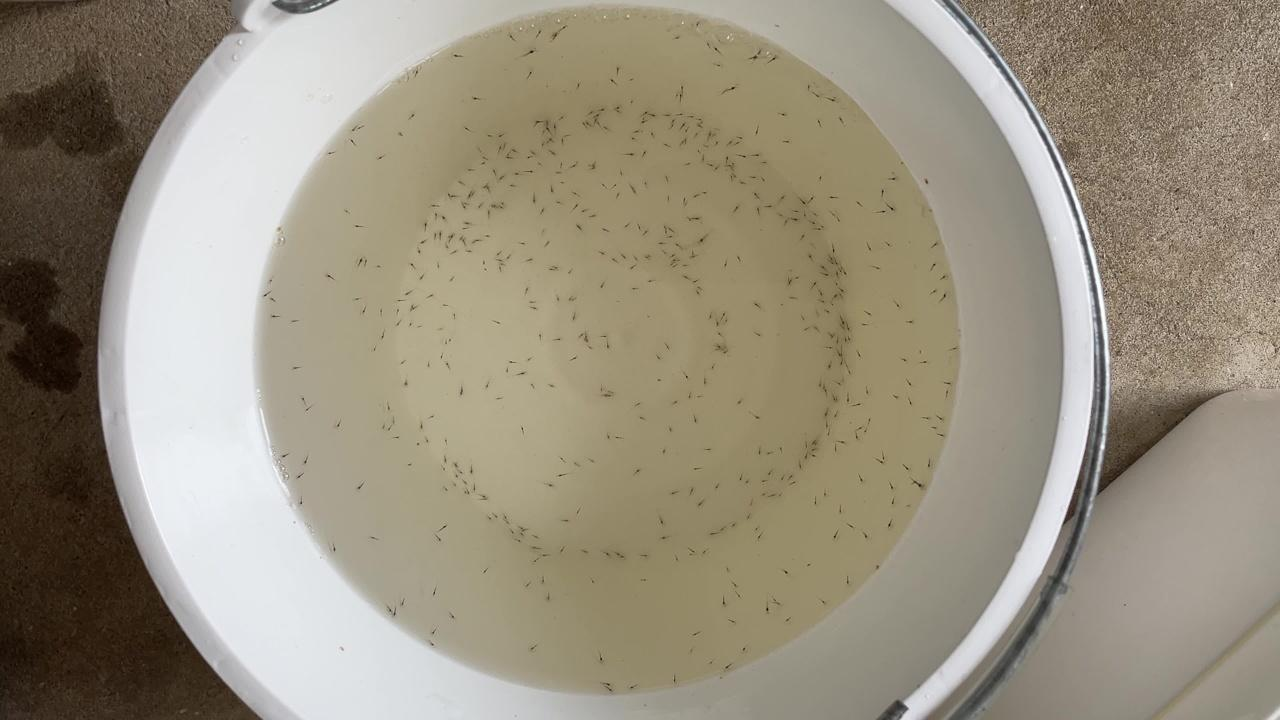shrimp: (612, 63, 624, 71), (627, 69, 639, 77), (625, 93, 637, 101), (609, 76, 621, 84), (614, 99, 626, 107), (614, 105, 626, 113), (599, 102, 611, 110), (585, 106, 597, 114), (590, 108, 602, 116), (591, 114, 603, 122), (593, 118, 605, 126), (602, 121, 614, 129), (584, 116, 596, 124), (578, 118, 590, 126), (573, 83, 585, 91), (555, 109, 567, 117), (561, 128, 573, 136), (558, 135, 570, 143), (552, 121, 564, 129), (545, 116, 557, 124), (536, 116, 548, 124), (540, 123, 552, 131), (547, 132, 559, 140), (545, 135, 557, 143), (538, 140, 550, 148), (544, 145, 556, 153), (556, 155, 568, 163), (554, 166, 566, 174), (568, 161, 580, 169), (587, 158, 599, 166), (588, 162, 600, 170), (530, 145, 542, 153), (526, 150, 538, 158), (532, 158, 544, 166), (511, 143, 523, 151), (506, 152, 518, 160), (503, 145, 515, 153), (495, 142, 507, 150), (497, 126, 509, 134), (485, 129, 497, 137), (472, 93, 484, 101), (459, 121, 471, 129), (473, 141, 485, 149), (480, 150, 492, 158), (478, 155, 490, 163), (489, 165, 501, 173), (494, 170, 506, 178), (507, 178, 519, 186), (512, 167, 524, 175), (522, 167, 534, 175), (529, 190, 541, 198), (540, 203, 552, 211), (546, 182, 558, 190), (555, 174, 567, 182), (682, 82, 694, 90), (676, 93, 688, 101), (672, 88, 684, 96), (651, 109, 663, 117), (642, 106, 654, 114), (641, 115, 653, 123), (634, 125, 646, 133), (645, 128, 657, 136), (628, 134, 640, 142), (626, 150, 638, 158), (638, 147, 650, 155), (662, 136, 674, 144), (667, 121, 679, 129), (667, 115, 679, 123), (674, 107, 686, 115), (686, 111, 698, 119), (680, 117, 692, 125), (681, 122, 693, 130), (681, 133, 693, 141), (676, 136, 688, 144), (689, 128, 701, 136), (696, 121, 708, 129), (696, 115, 708, 123), (712, 124, 724, 132), (702, 129, 714, 137), (711, 135, 723, 143), (705, 140, 717, 148), (692, 140, 704, 148), (699, 150, 711, 158), (684, 156, 696, 164), (703, 157, 715, 165), (710, 161, 722, 169), (751, 124, 763, 132), (737, 130, 749, 138), (733, 137, 745, 145), (724, 135, 736, 143), (735, 149, 747, 157), (751, 147, 763, 155), (758, 154, 770, 162), (759, 171, 771, 179), (747, 172, 759, 180), (737, 178, 749, 186), (727, 174, 739, 182), (732, 167, 744, 175), (731, 157, 743, 165), (721, 160, 733, 168), (781, 137, 793, 145), (778, 111, 790, 119), (816, 173, 828, 181), (749, 188, 761, 196), (733, 201, 745, 209), (752, 206, 764, 214), (764, 199, 776, 207), (778, 190, 790, 198), (793, 194, 805, 202), (810, 190, 822, 198), (809, 206, 821, 214), (807, 214, 819, 222), (818, 217, 830, 225), (813, 224, 825, 232), (799, 206, 811, 214), (793, 205, 805, 213), (791, 213, 803, 221), (781, 215, 793, 223), (775, 210, 787, 218), (829, 191, 841, 199), (826, 206, 838, 214), (835, 211, 847, 219), (835, 118, 847, 126), (813, 117, 825, 125), (830, 96, 842, 104), (814, 93, 826, 101), (804, 82, 816, 90), (768, 55, 780, 63), (749, 57, 761, 65), (758, 45, 770, 53), (729, 84, 741, 92), (712, 62, 724, 70), (715, 46, 727, 54), (703, 40, 715, 48), (672, 33, 684, 41), (697, 19, 709, 27), (564, 22, 576, 30), (550, 29, 562, 37), (526, 47, 538, 55), (526, 73, 538, 81), (534, 27, 546, 35), (507, 28, 519, 36), (455, 51, 467, 59), (416, 65, 428, 73), (406, 109, 418, 117), (398, 125, 410, 133), (379, 151, 391, 159), (348, 135, 360, 143), (354, 122, 366, 130), (348, 118, 360, 126), (327, 147, 339, 155), (343, 205, 355, 213), (353, 218, 365, 226), (352, 256, 364, 264), (362, 255, 374, 263), (375, 262, 387, 270), (324, 273, 336, 281), (891, 172, 903, 180), (880, 187, 892, 195), (887, 200, 899, 208), (880, 206, 892, 214), (855, 199, 867, 207), (931, 239, 943, 247), (927, 258, 939, 266), (937, 273, 949, 281), (928, 284, 940, 292), (937, 289, 949, 297), (885, 239, 897, 247), (863, 239, 875, 247), (872, 259, 884, 267), (889, 299, 901, 307), (905, 315, 917, 323), (826, 241, 838, 249), (829, 253, 841, 261), (825, 254, 837, 262), (842, 268, 854, 276), (834, 262, 846, 270), (831, 270, 843, 278), (822, 268, 834, 276), (819, 261, 831, 269), (806, 251, 818, 259), (801, 231, 813, 239), (839, 283, 851, 291), (839, 290, 851, 298), (829, 291, 841, 299), (825, 298, 837, 306), (822, 305, 834, 313), (815, 296, 827, 304), (816, 283, 828, 291), (812, 278, 824, 286), (794, 271, 806, 279), (789, 275, 801, 283), (785, 273, 797, 281), (789, 291, 801, 299), (796, 309, 808, 317), (805, 323, 817, 331), (810, 325, 822, 333), (837, 311, 849, 319), (843, 318, 855, 326), (836, 319, 848, 327), (844, 331, 856, 339), (838, 334, 850, 342), (858, 348, 870, 356), (832, 334, 844, 342), (823, 326, 835, 334), (825, 341, 837, 349), (831, 350, 843, 358), (838, 350, 850, 358), (843, 359, 855, 367), (825, 358, 837, 366), (863, 308, 875, 316), (861, 319, 873, 327), (915, 347, 927, 355), (919, 357, 931, 365), (900, 355, 912, 363), (899, 377, 911, 385), (906, 396, 918, 404), (892, 391, 904, 399), (946, 343, 958, 351), (942, 377, 954, 385), (938, 389, 950, 397), (936, 412, 948, 420), (920, 413, 932, 421), (928, 422, 940, 430), (935, 429, 947, 437), (922, 458, 934, 466), (913, 480, 925, 488), (898, 461, 910, 469), (881, 449, 893, 457), (875, 453, 887, 461), (888, 482, 900, 490), (887, 495, 899, 503), (905, 501, 917, 509), (885, 518, 897, 526), (864, 387, 876, 395), (849, 399, 861, 407), (847, 392, 859, 400), (867, 419, 879, 427), (861, 427, 873, 435), (857, 421, 869, 429), (851, 431, 863, 439), (837, 435, 849, 443), (832, 444, 844, 452), (822, 427, 834, 435), (824, 419, 836, 427), (832, 408, 844, 416), (819, 406, 831, 414), (832, 392, 844, 400), (821, 386, 833, 394), (817, 377, 829, 385), (833, 379, 845, 387), (846, 365, 858, 373), (854, 472, 866, 480), (834, 500, 846, 508), (831, 527, 843, 535), (843, 521, 855, 529), (861, 530, 873, 538), (843, 576, 855, 584), (821, 597, 833, 605), (801, 559, 813, 567), (781, 564, 793, 572), (812, 497, 824, 505), (819, 490, 831, 498), (813, 435, 825, 443), (810, 445, 822, 453), (811, 453, 823, 461), (801, 451, 813, 459), (801, 438, 813, 446), (796, 459, 808, 467), (778, 443, 790, 451), (767, 446, 779, 454), (759, 446, 771, 454), (752, 415, 764, 423), (788, 472, 800, 480), (792, 477, 804, 485), (778, 472, 790, 480), (764, 466, 776, 474), (759, 475, 771, 483), (775, 491, 787, 499), (768, 491, 780, 499), (761, 489, 773, 497), (745, 478, 757, 486), (737, 475, 749, 483), (746, 497, 758, 505), (744, 511, 756, 519), (751, 520, 763, 528), (754, 531, 766, 539), (735, 254, 747, 262), (754, 301, 766, 309), (755, 330, 767, 338), (718, 260, 730, 268), (698, 234, 710, 242), (693, 214, 705, 222), (687, 214, 699, 222), (690, 191, 702, 199), (702, 187, 714, 195), (683, 200, 695, 208), (679, 194, 691, 202), (663, 194, 675, 202), (663, 174, 675, 182), (641, 180, 653, 188), (627, 185, 639, 193), (614, 189, 626, 197), (610, 180, 622, 188), (600, 181, 612, 189), (615, 166, 627, 174), (569, 187, 581, 195), (553, 198, 565, 206), (567, 201, 579, 209), (580, 203, 592, 211), (588, 210, 600, 218), (575, 221, 587, 229), (600, 224, 612, 232), (623, 218, 635, 226), (635, 222, 647, 230), (639, 228, 651, 236), (657, 227, 669, 235), (668, 224, 680, 232), (665, 234, 677, 242), (670, 242, 682, 250), (689, 244, 701, 252), (688, 252, 700, 260), (657, 237, 669, 245), (657, 245, 669, 253), (667, 250, 679, 258), (671, 253, 683, 261), (681, 259, 693, 267), (671, 261, 683, 269), (666, 256, 678, 264), (680, 272, 692, 280), (691, 275, 703, 283), (697, 281, 709, 289), (690, 287, 702, 295), (722, 319, 734, 327), (718, 310, 730, 318), (712, 315, 724, 323), (704, 309, 716, 317), (716, 328, 728, 336), (723, 347, 735, 355), (720, 342, 732, 350), (714, 343, 726, 351), (710, 338, 722, 346), (643, 250, 655, 258), (648, 275, 660, 283), (631, 283, 643, 291), (627, 264, 639, 272), (632, 253, 644, 261), (622, 250, 634, 258), (614, 256, 626, 264), (599, 250, 611, 258), (597, 276, 609, 284), (544, 239, 556, 247), (540, 227, 552, 235), (565, 265, 577, 273), (553, 258, 565, 266), (546, 264, 558, 272), (526, 254, 538, 262), (518, 240, 530, 248), (504, 252, 516, 260), (494, 246, 506, 254), (495, 253, 507, 261), (499, 256, 511, 264), (496, 264, 508, 272), (481, 263, 493, 271), (475, 257, 487, 265), (482, 230, 494, 238), (484, 209, 496, 217), (489, 201, 501, 209), (500, 199, 512, 207), (483, 183, 495, 191), (468, 163, 480, 171), (457, 175, 469, 183), (475, 199, 487, 207), (468, 187, 480, 195), (463, 187, 475, 195), (463, 196, 475, 204), (460, 201, 472, 209), (452, 189, 464, 197), (445, 191, 457, 199), (430, 200, 442, 208), (438, 212, 450, 220), (431, 209, 443, 217), (463, 215, 475, 223), (461, 223, 473, 231), (472, 236, 484, 244), (463, 246, 475, 254), (463, 235, 475, 243), (456, 229, 468, 237), (448, 246, 460, 254), (440, 238, 452, 246), (448, 230, 460, 238), (435, 231, 447, 239), (430, 229, 442, 237), (420, 220, 432, 228), (419, 234, 431, 242), (414, 244, 426, 252), (434, 260, 446, 268), (447, 274, 459, 282), (419, 270, 431, 278), (410, 260, 422, 268), (442, 300, 454, 308), (450, 312, 462, 320), (424, 291, 436, 299), (405, 285, 417, 293), (354, 294, 366, 302), (358, 303, 370, 311), (377, 327, 389, 335), (367, 343, 379, 351), (375, 309, 387, 317), (389, 318, 401, 326), (406, 316, 418, 324), (415, 322, 427, 330), (437, 324, 449, 332), (412, 300, 424, 308), (405, 301, 417, 309), (395, 294, 407, 302), (392, 306, 404, 314), (493, 315, 505, 323), (522, 286, 534, 294), (529, 296, 541, 304), (527, 302, 539, 310), (551, 292, 563, 300), (563, 289, 575, 297), (569, 294, 581, 302), (569, 310, 581, 318), (599, 330, 611, 338), (603, 340, 615, 348), (586, 344, 598, 352), (580, 332, 592, 340), (575, 330, 587, 338), (571, 355, 583, 363), (551, 335, 563, 343), (536, 330, 548, 338), (525, 352, 537, 360), (547, 381, 559, 389), (530, 384, 542, 392), (515, 369, 527, 377), (507, 357, 519, 365), (501, 364, 513, 372), (598, 381, 610, 389), (607, 386, 619, 394), (600, 393, 612, 401), (665, 340, 677, 348), (652, 348, 664, 356), (678, 369, 690, 377), (708, 359, 720, 367), (699, 370, 711, 378), (737, 394, 749, 402), (697, 390, 709, 398), (681, 389, 693, 397), (653, 375, 665, 383), (671, 398, 683, 406), (692, 414, 704, 422), (638, 412, 650, 420), (630, 400, 642, 408), (668, 426, 680, 434), (657, 443, 669, 451), (703, 444, 715, 452), (694, 461, 706, 469), (711, 479, 723, 487), (699, 498, 711, 506), (687, 488, 699, 496), (670, 487, 682, 495), (732, 522, 744, 530), (720, 522, 732, 530), (709, 526, 721, 534), (698, 546, 710, 554), (723, 564, 735, 572), (730, 576, 742, 584), (730, 589, 742, 597), (786, 613, 798, 621), (769, 590, 781, 598), (772, 598, 784, 606), (762, 599, 774, 607), (726, 616, 738, 624), (740, 645, 752, 653), (718, 596, 730, 604), (692, 626, 704, 634), (684, 644, 696, 652), (706, 655, 718, 663), (723, 659, 735, 667), (670, 673, 682, 681), (632, 680, 644, 688), (604, 687, 616, 695), (603, 680, 615, 688), (618, 432, 630, 440), (604, 431, 616, 439), (633, 468, 645, 476), (655, 516, 667, 524), (661, 532, 673, 540), (674, 557, 686, 565), (685, 554, 697, 562), (686, 546, 698, 554), (494, 393, 506, 401), (484, 380, 496, 388), (455, 385, 467, 393), (441, 363, 453, 371), (437, 351, 449, 359), (444, 334, 456, 342), (439, 336, 451, 344), (423, 359, 435, 367), (402, 378, 414, 386), (399, 357, 411, 365), (518, 425, 530, 433), (586, 455, 598, 463), (572, 458, 584, 466), (558, 471, 570, 479), (556, 454, 568, 462), (547, 481, 559, 489), (574, 507, 586, 515), (558, 518, 570, 526), (639, 552, 651, 560), (641, 574, 653, 582), (597, 655, 609, 663), (613, 546, 625, 554), (617, 554, 629, 562), (605, 548, 617, 556), (581, 548, 593, 556), (588, 578, 600, 586), (558, 546, 570, 554), (546, 593, 558, 601), (532, 644, 544, 652), (538, 575, 550, 583), (523, 580, 535, 588), (529, 557, 541, 565), (544, 551, 556, 559), (533, 543, 545, 551), (532, 532, 544, 540), (516, 521, 528, 529), (524, 524, 536, 532), (519, 528, 531, 536), (515, 536, 527, 544), (505, 524, 517, 532), (501, 518, 513, 526), (502, 510, 514, 518), (494, 510, 506, 518), (484, 512, 496, 520), (478, 496, 490, 504), (478, 489, 490, 497), (471, 482, 483, 490), (464, 482, 476, 490), (459, 489, 471, 497), (467, 465, 479, 473), (450, 480, 462, 488), (441, 486, 453, 494), (452, 471, 464, 479), (456, 466, 468, 474), (452, 459, 464, 467), (436, 464, 448, 472), (444, 455, 456, 463), (444, 436, 456, 444), (427, 411, 439, 419), (414, 420, 426, 428), (419, 434, 431, 442), (479, 568, 491, 576), (438, 523, 450, 531), (433, 534, 445, 542), (429, 588, 441, 596), (447, 608, 459, 616), (427, 628, 439, 636), (427, 641, 439, 649), (400, 594, 412, 602), (392, 603, 404, 611), (382, 603, 394, 611), (369, 534, 381, 542), (407, 463, 419, 471), (411, 440, 423, 448), (392, 432, 404, 440), (385, 425, 397, 433), (390, 415, 402, 423), (384, 402, 396, 410), (380, 422, 392, 430), (358, 480, 370, 488), (329, 543, 341, 551), (300, 496, 312, 504), (296, 474, 308, 482), (302, 457, 314, 465), (334, 419, 346, 427), (280, 452, 292, 460), (307, 405, 319, 413), (302, 397, 314, 405), (294, 365, 306, 373), (286, 320, 298, 328), (270, 313, 282, 321), (271, 295, 283, 303), (261, 292, 273, 300), (267, 277, 279, 285), (918, 207, 930, 215)
